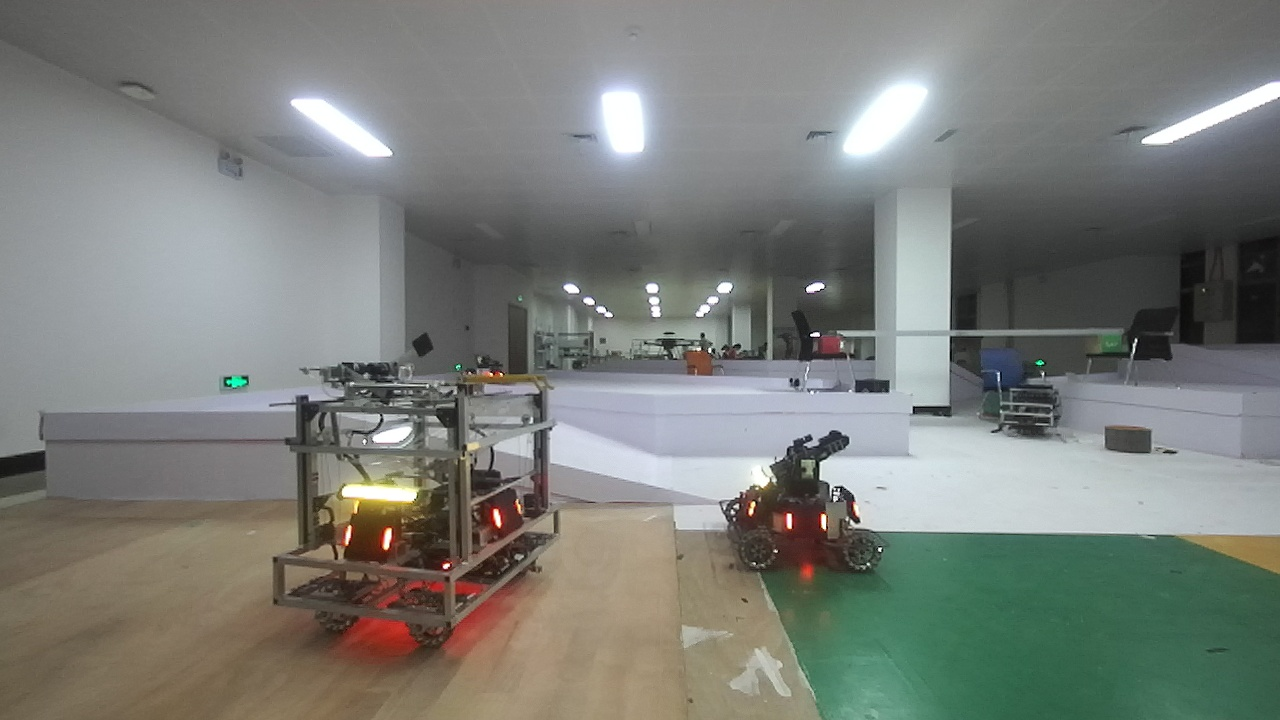car: (296, 353, 585, 642), (715, 427, 873, 585)
